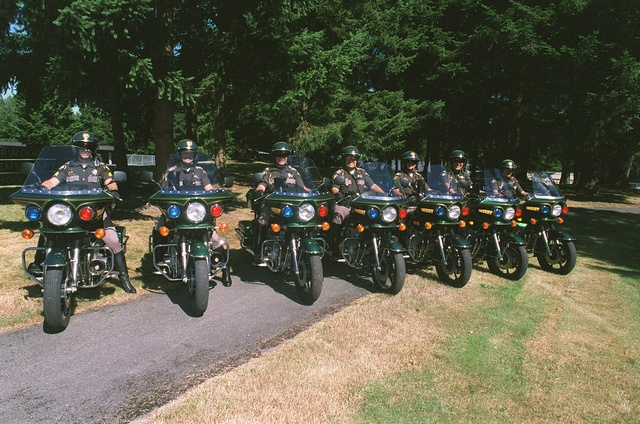non-vehicle: (10, 142, 129, 330), (132, 148, 230, 314), (235, 156, 334, 303), (322, 160, 409, 294), (397, 164, 473, 286), (465, 169, 529, 279), (518, 170, 577, 275)
